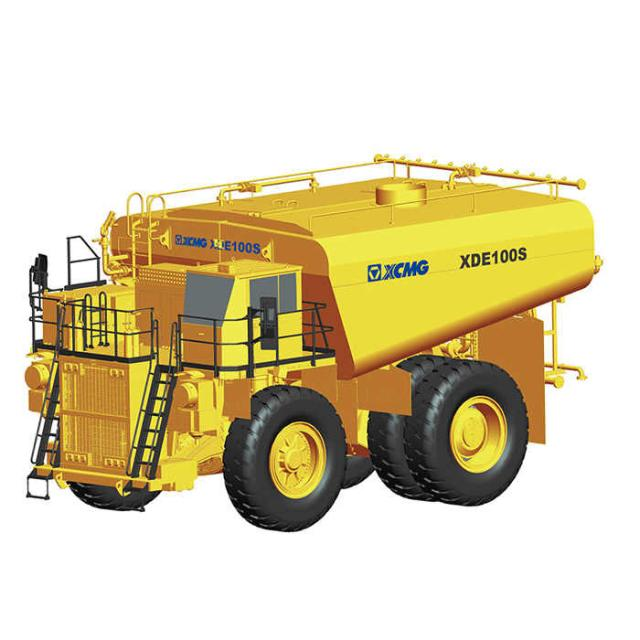dump_truck: (12, 152, 617, 535)
